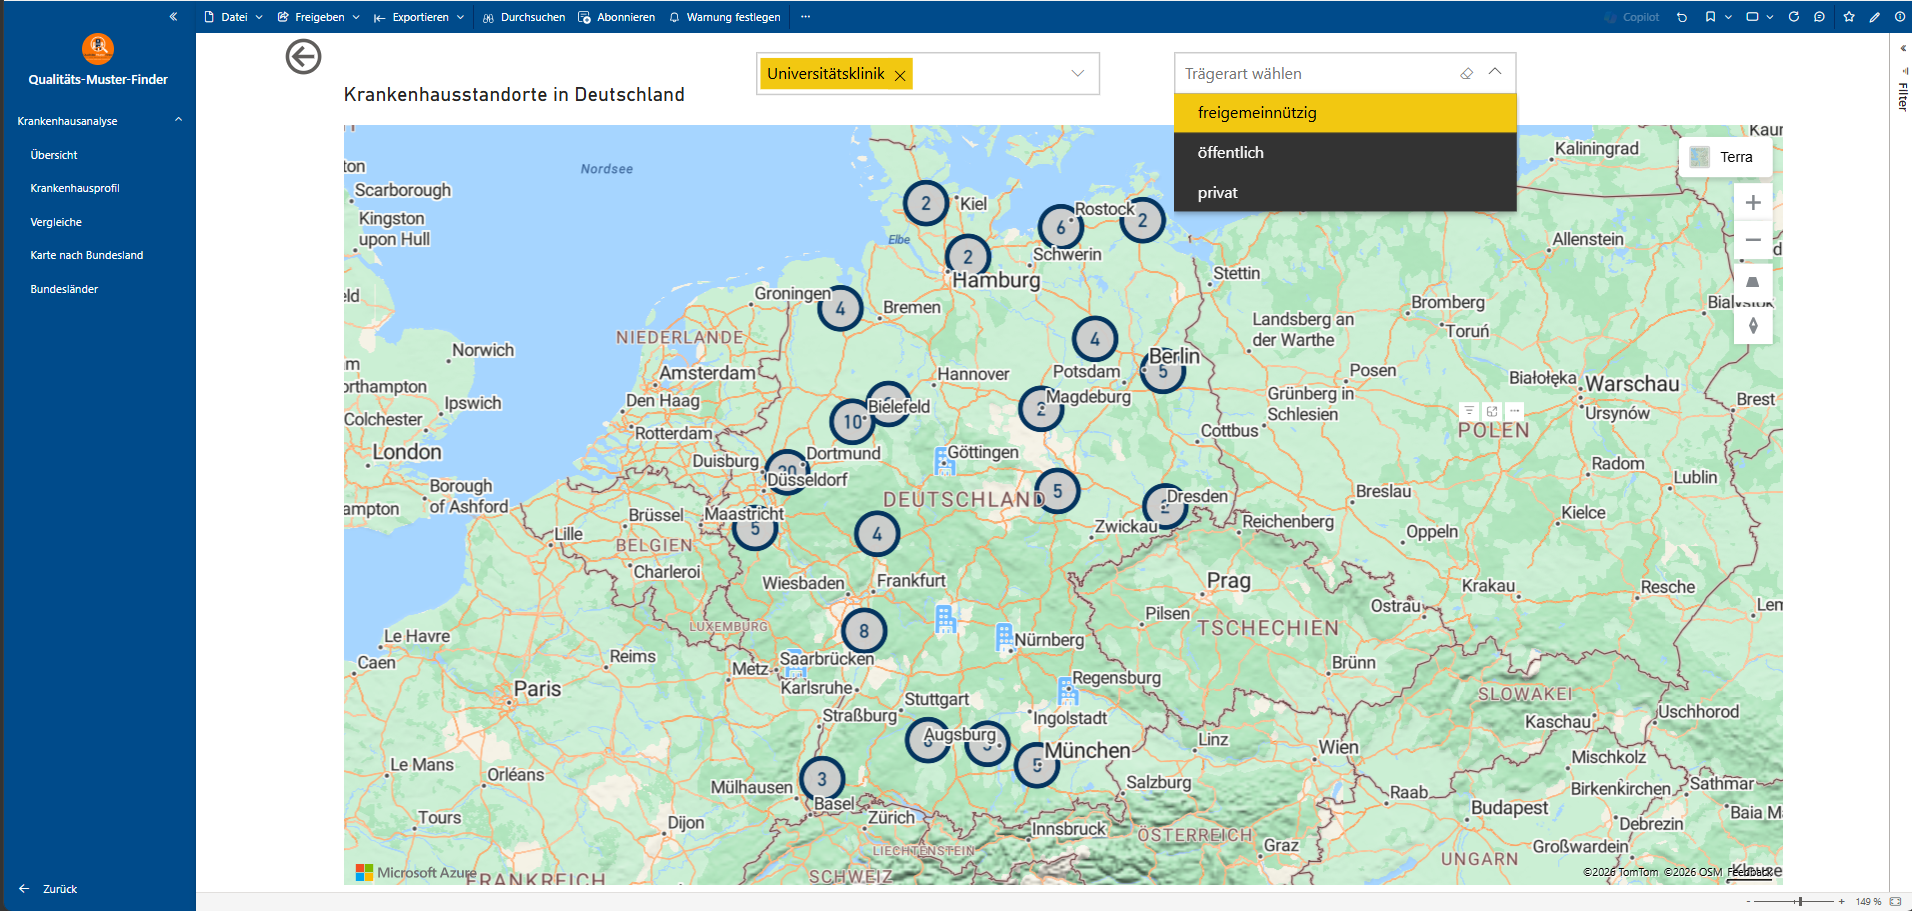

This screenshot's page, from the dashboard's own definition file:
{"tool":"powerbi","page":{"name":"Karte","canvas":[1280,720],"ordinal":1},"visuals":[{"type":"azureMap","title":"Krankenhausstandorte in Deutschland","fields":{"Series":["SO.SO.Bundesland"],"X":["SO.SO.Longitude"],"Y":["SO.SO.Latitude"]},"box":[48.1,41.2,1218.2,679.3],"z":0},{"type":"actionButton","box":[0,0,100,40],"z":1000},{"type":"SmartFilterBySQLBI1458262140625","fields":{"Values":["SO.Krankenhausart"]},"box":[393.8,8.6,300.3,130.5],"z":2000},{"type":"SmartFilterBySQLBI1458262140625","fields":{"Values":["SO.KH.Träger.Art"]},"box":[744.6,8.6,300,300],"z":3000}]}

Visuals, with their boxes on the page's 1280x720 design canvas (x1, y1, x2, y2). These are canvas units, not pixel positions in the 1912x911 screenshot, which may show the page scaled, cropped or inside an application window:
"Krankenhausstandorte in Deutschland" azureMap: crop(48, 41, 1266, 720)
actionButton: crop(0, 0, 100, 40)
SmartFilterBySQLBI1458262140625 - SO.Krankenhausart: crop(394, 9, 694, 139)
SmartFilterBySQLBI1458262140625 - SO.KH.Träger.Art: crop(745, 9, 1045, 309)
